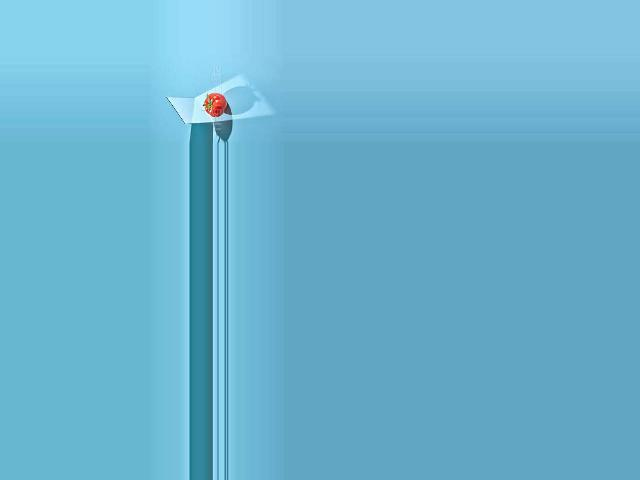tomato: (204, 93, 227, 117)
